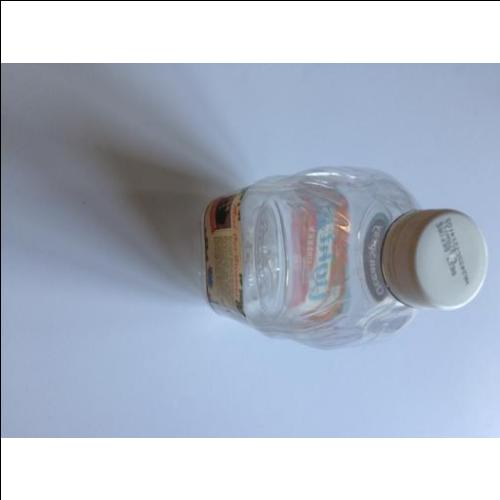plastic: (197, 170, 484, 347)
